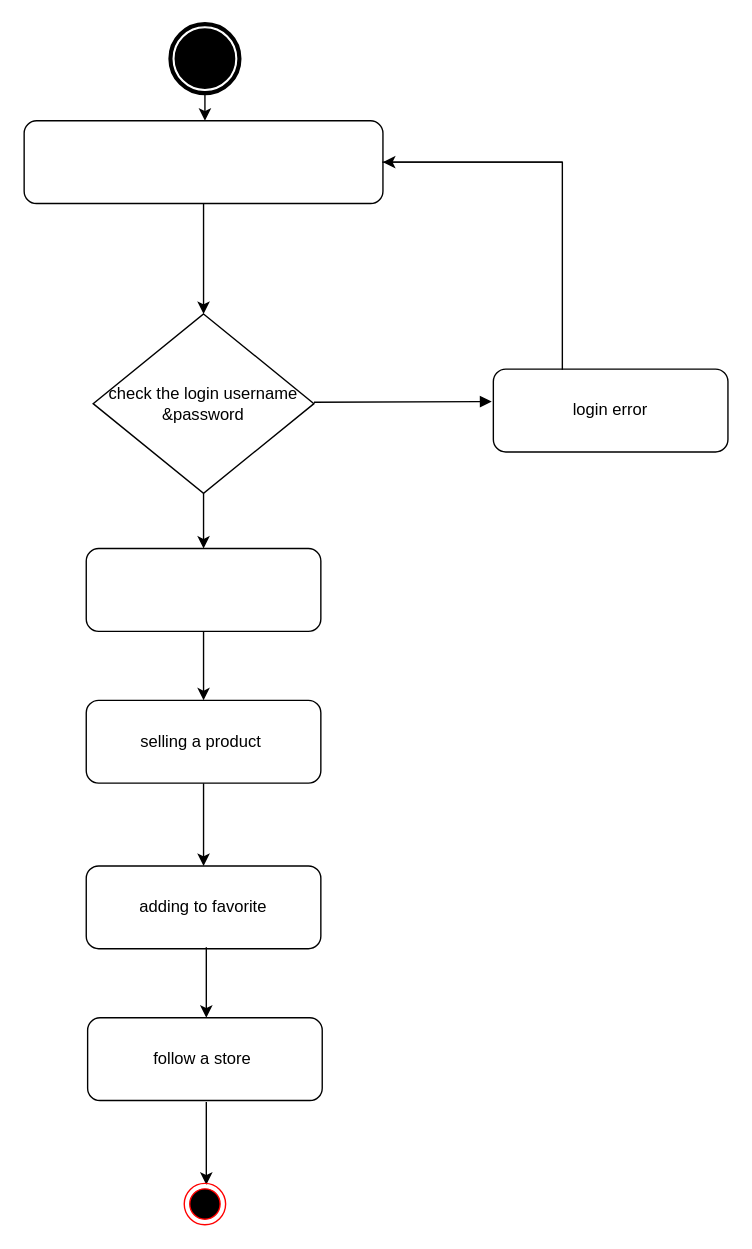
The diagram is 752 pixels wide and 1249 high, and some of its shapes have lost their labels. Each missing label, with the box of its shape:
adding a product: (85, 547, 321, 631)
login to the app: (23, 119, 383, 204)
